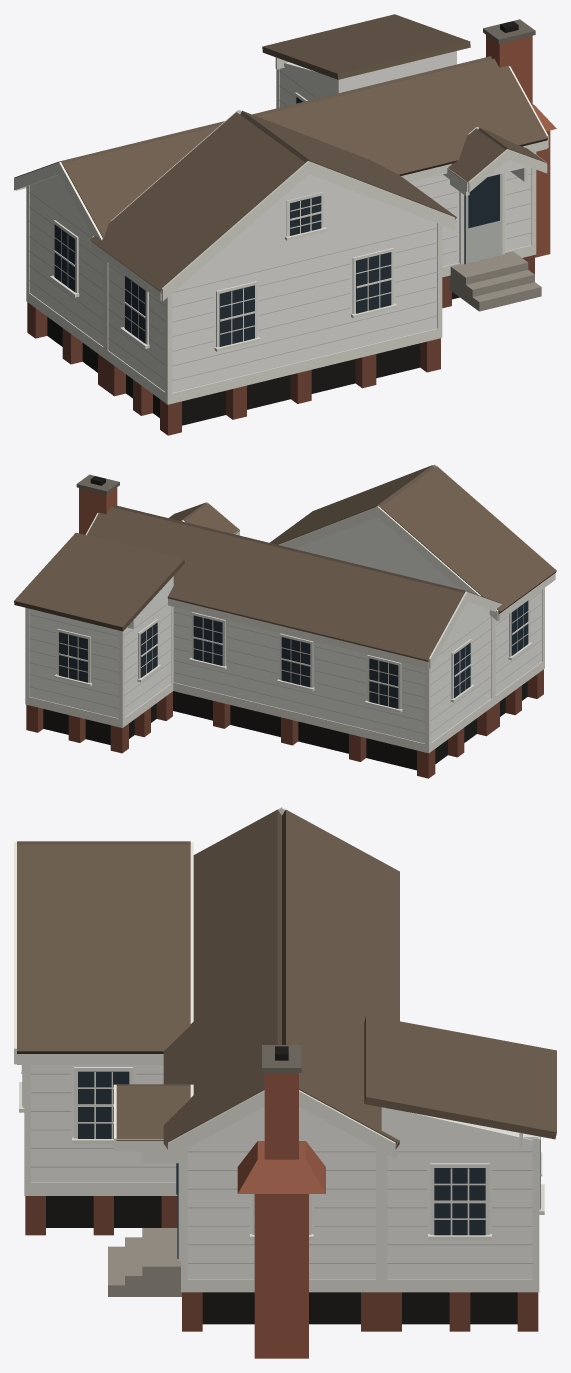
File: small-frame-house-0002.glb
3 views of the same model, one above another, from view 1: azimuth 30°, elevation 25°; view 2: azimuth 150°, elevation 25°; view 3: azimuth 270°, elevation 25° (orthographic). The views are drawn at different scales.
Parts seen in each view (by area): view 1: kit-small-frame-house-0002; view 2: kit-small-frame-house-0002; view 3: kit-small-frame-house-0002.
Part boxes in pixels (box(x1,y1,x2,y2)): kit-small-frame-house-0002: box(14, 14, 556, 435); kit-small-frame-house-0002: box(14, 464, 556, 778); kit-small-frame-house-0002: box(14, 807, 556, 1358).
Bounding box in the file's own units: 12.45 × 5.98 × 9.53.
